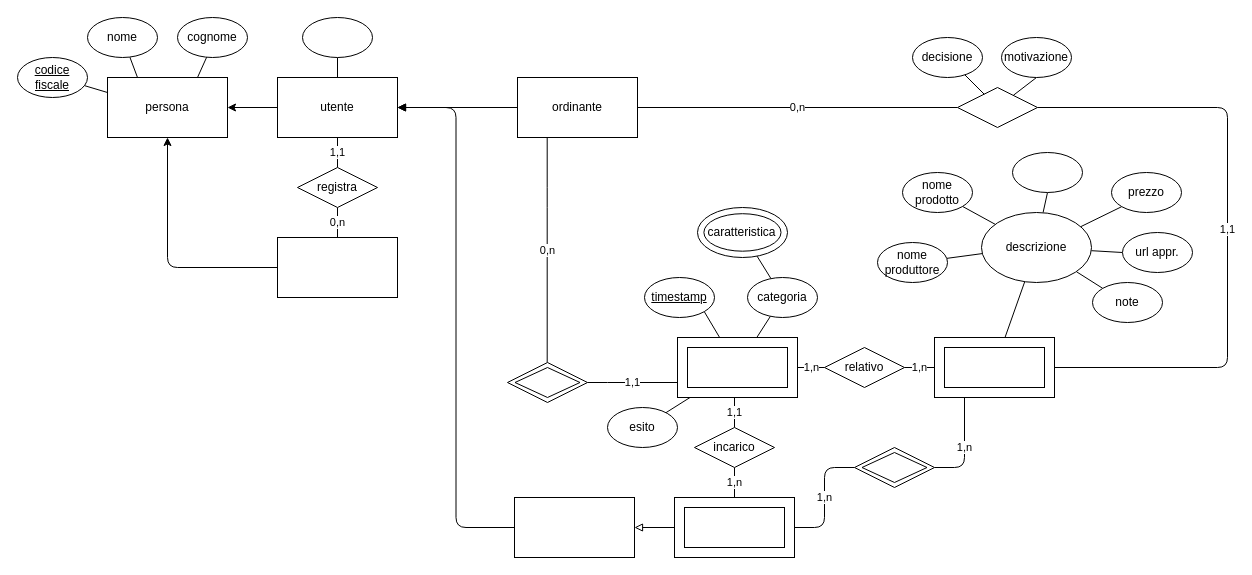
Some shapes in this 1252 by 575 pixel diagram are drawn without their labels. Each missing label, with the centre of its shape:
"amministratore" belongs at (337,267).
"effettua" belongs at (547,382).
"ID prodotto" belongs at (1047,172).
"prodotto candidato" belongs at (994,367).
"richiesta d'acquisto" belongs at (737,367).
"sceglie" belongs at (894,467).
"tecnico" belongs at (574,527).
"tecnico incaricato" belongs at (734,527).
"username" belongs at (337,37).
"valuta" belongs at (997,107).
